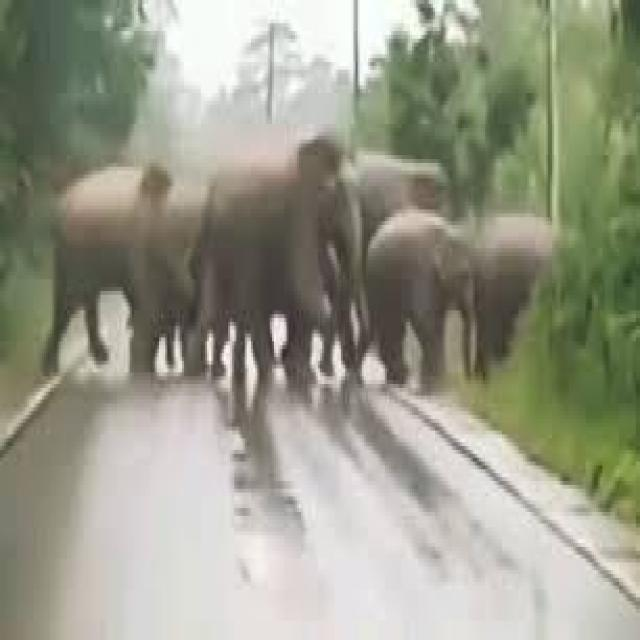Elephant: (186, 124, 373, 392), (40, 144, 204, 386), (366, 179, 480, 412), (473, 194, 574, 385)
